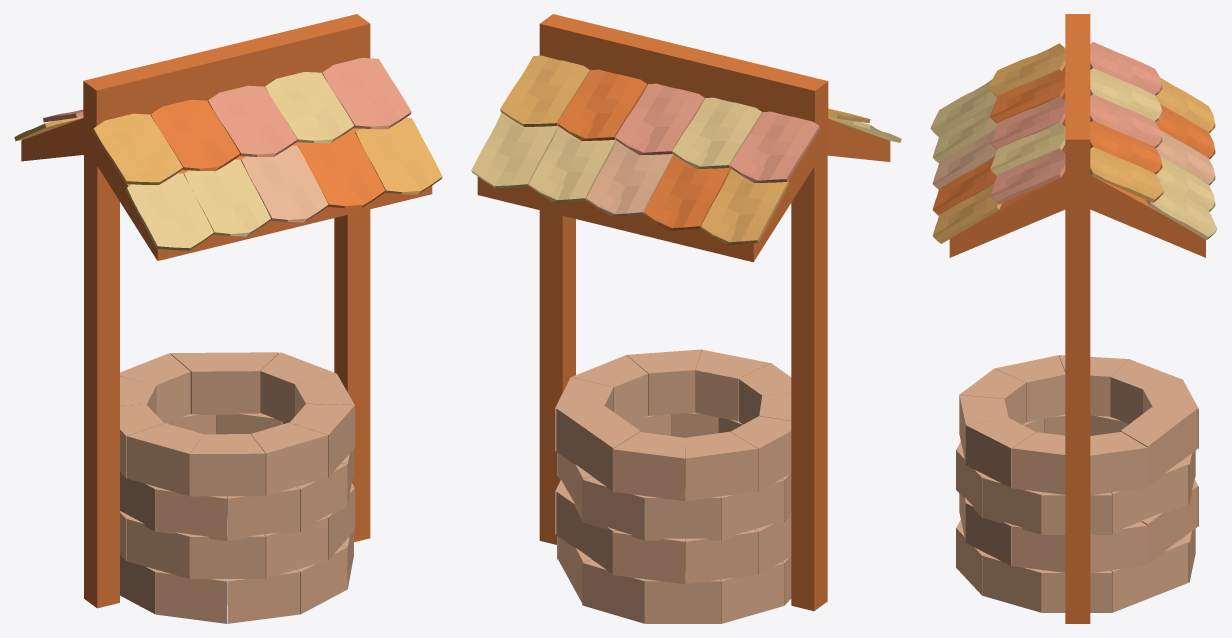
File: AGPwell 1.fbx
The picture shows the model from 3 angles, left to right: view 1: azimuth 30°, elevation 25°; view 2: azimuth 150°, elevation 25°; view 3: azimuth 270°, elevation 25°; orthographic projection. The views are drawn at different scales.
Parts seen in each view (by area): view 1: Cube.019, Cube.002, Cube.001, Cube.012, Cube.017, Cube.014, Cube.016, Cube.020, Cube.013, Cube.022, Cube.015, Cube.018 (+1 smaller); view 2: Cube.019, Cube.002, Cube.001, Cube.011, Cube.008, Cube.010, Cube.007, Cube.009, Cube.006, Cube.003, Cube.005, Cube (+1 smaller); view 3: Cube.019, Cube.002, Cube.007, Cube.022, Cube.017, Cube.018, Cube.021, Cube.020, Cube.009, Cube.011, Cube.008, Cube.010 (+10 smaller).
Boxes of the visible parts, x1,y1,x2,y2 form: Cube.019: [120, 352, 354, 623]; Cube.002: [21, 14, 432, 542]; Cube.001: [84, 156, 119, 608]; Cube.012: [126, 173, 213, 250]; Cube.017: [93, 113, 182, 184]; Cube.014: [241, 145, 328, 222]; Cube.016: [355, 117, 442, 194]; Cube.020: [208, 85, 297, 156]; Cube.013: [184, 159, 270, 236]; Cube.022: [322, 58, 411, 129]; Cube.015: [298, 131, 385, 208]; Cube.018: [150, 99, 239, 171]; Cube.019: [555, 349, 791, 623]; Cube.002: [477, 14, 890, 544]; Cube.001: [791, 156, 827, 610]; Cube.011: [729, 111, 820, 182]; Cube.008: [557, 69, 647, 140]; Cube.010: [672, 97, 762, 168]; Cube.007: [500, 55, 589, 126]; Cube.009: [615, 83, 704, 154]; Cube.006: [701, 168, 789, 244]; Cube.003: [528, 127, 616, 202]; Cube.005: [643, 155, 730, 230]; Cube: [471, 112, 558, 188]; Cube.019: [956, 355, 1198, 612]; Cube.002: [949, 14, 1205, 623]; Cube.007: [1089, 147, 1164, 202]; Cube.022: [990, 148, 1065, 204]; Cube.017: [988, 43, 1065, 97]; Cube.018: [990, 69, 1065, 123]; Cube.021: [990, 122, 1065, 175]; Cube.020: [990, 96, 1065, 149]; Cube.009: [1090, 94, 1162, 148]; Cube.011: [1090, 42, 1162, 95]; Cube.008: [1090, 120, 1162, 174]; Cube.010: [1090, 68, 1162, 121].
Bounding box in the file's own units: 625 × 1085 × 580.
